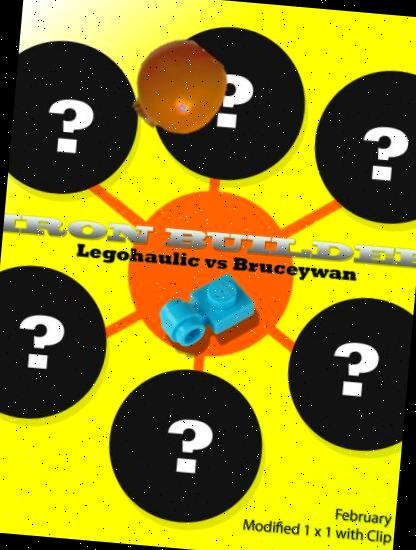Physalis: (125, 38, 229, 142)
